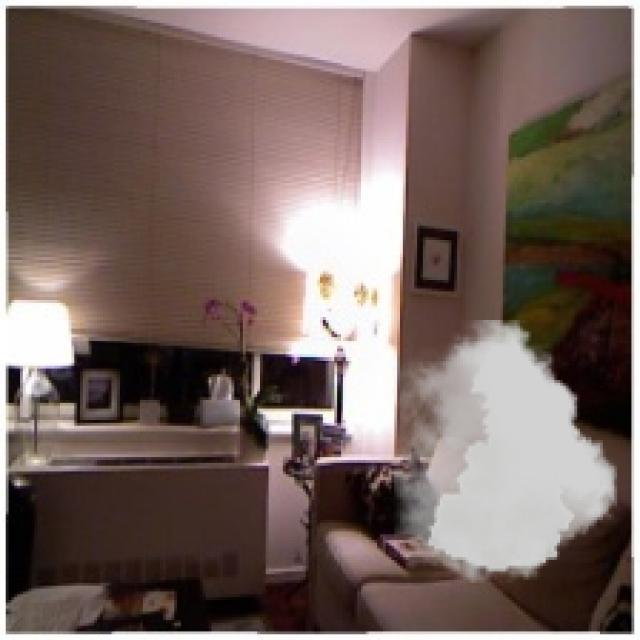smoke: (394, 320, 617, 583)
